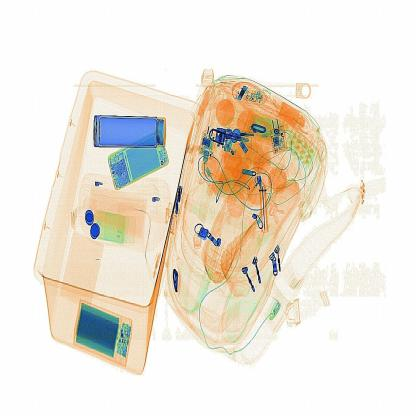wrench: (257, 177, 275, 236)
